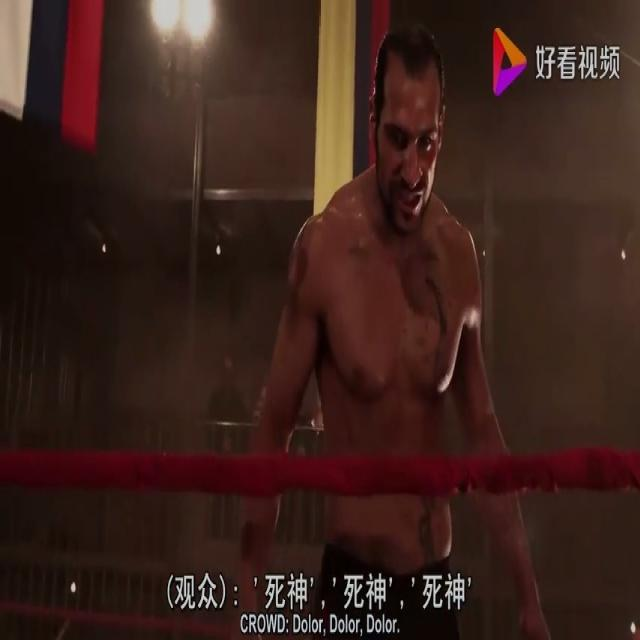non-fight: (237, 21, 553, 640)
